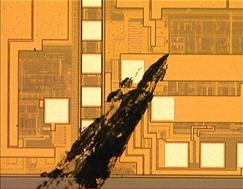SCRATCH: (34, 52, 172, 189)
